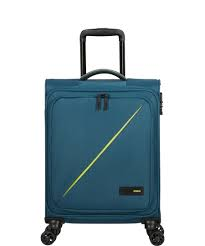suitcase: (37, 29, 166, 246)
